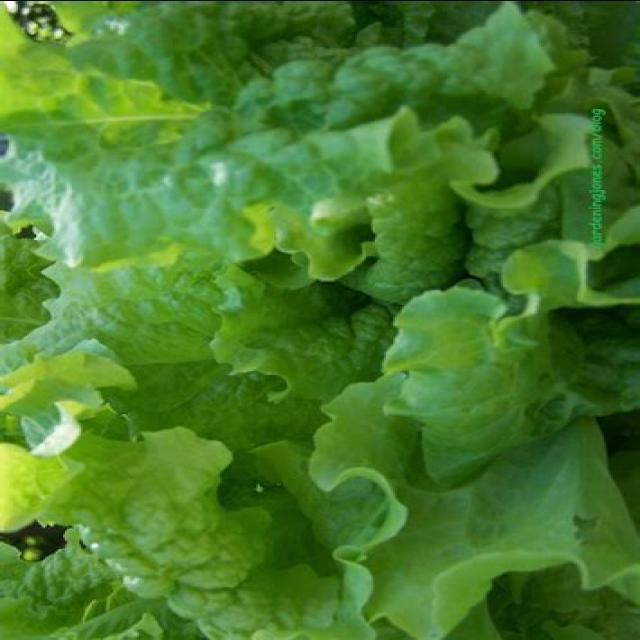healthy: (22, 11, 582, 626)
